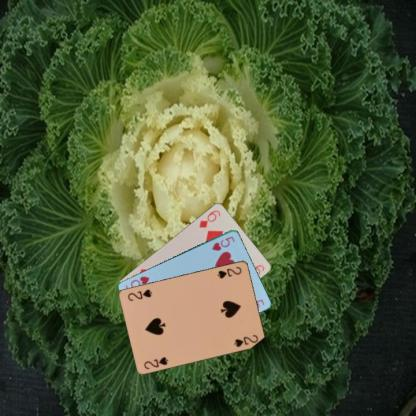2s: (215, 264, 243, 280), (142, 354, 169, 370)
5h: (209, 233, 236, 252)
6d: (196, 207, 222, 229)
